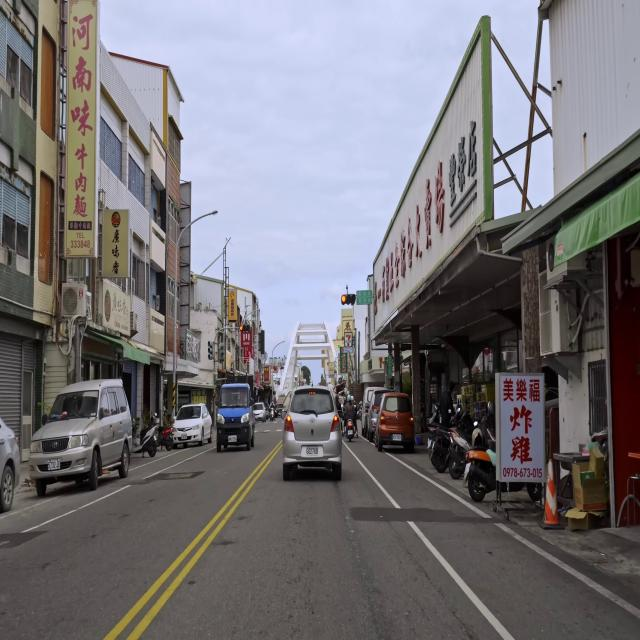red light: (341, 294, 356, 305), (239, 324, 250, 332)
